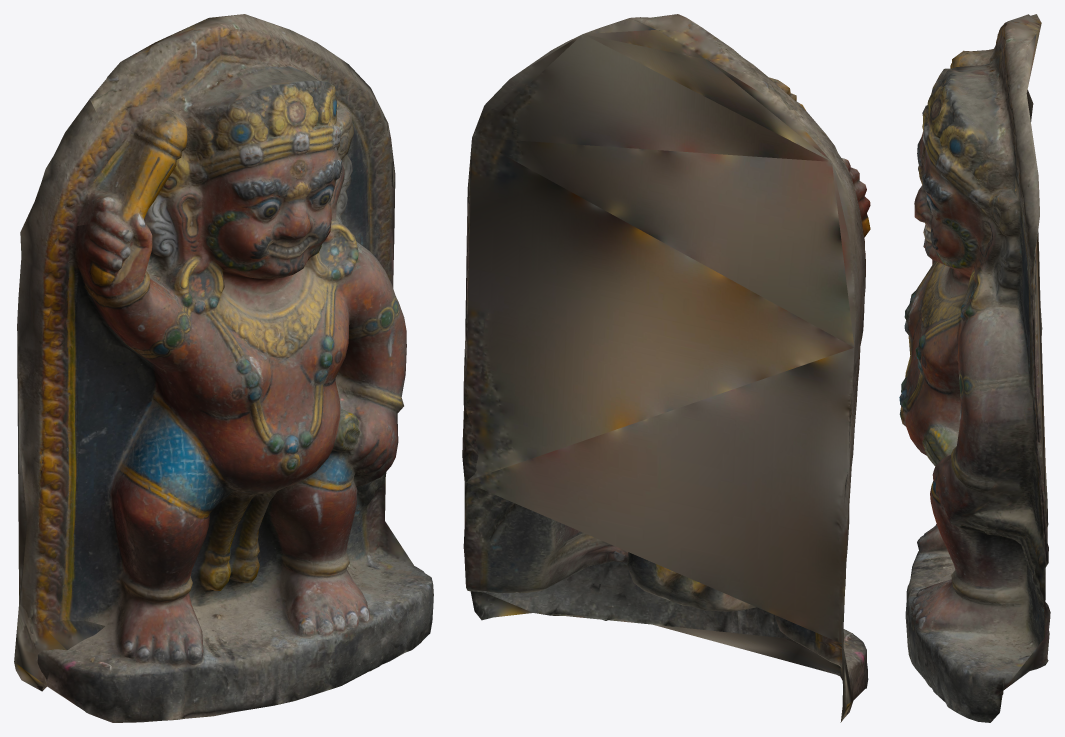
Rendered from kala_bhairava_w_2_lod_-_nepal_heritage.glb.
The picture shows the model from 3 angles, left to right: view 1: azimuth 30°, elevation 25°; view 2: azimuth 150°, elevation 25°; view 3: azimuth 270°, elevation 25°; orthographic projection. The views are drawn at different scales.
Visible parts, largest first — view 1: Object_2; view 2: Object_2; view 3: Object_2.
Boxes of the visible parts, <box> form: Object_2: <box>14,14,433,722</box>; Object_2: <box>462,14,870,722</box>; Object_2: <box>899,14,1050,722</box>.
Bounding box in the file's own units: 28.29 × 44.6 × 10.06.
1 material, 1 textured.
